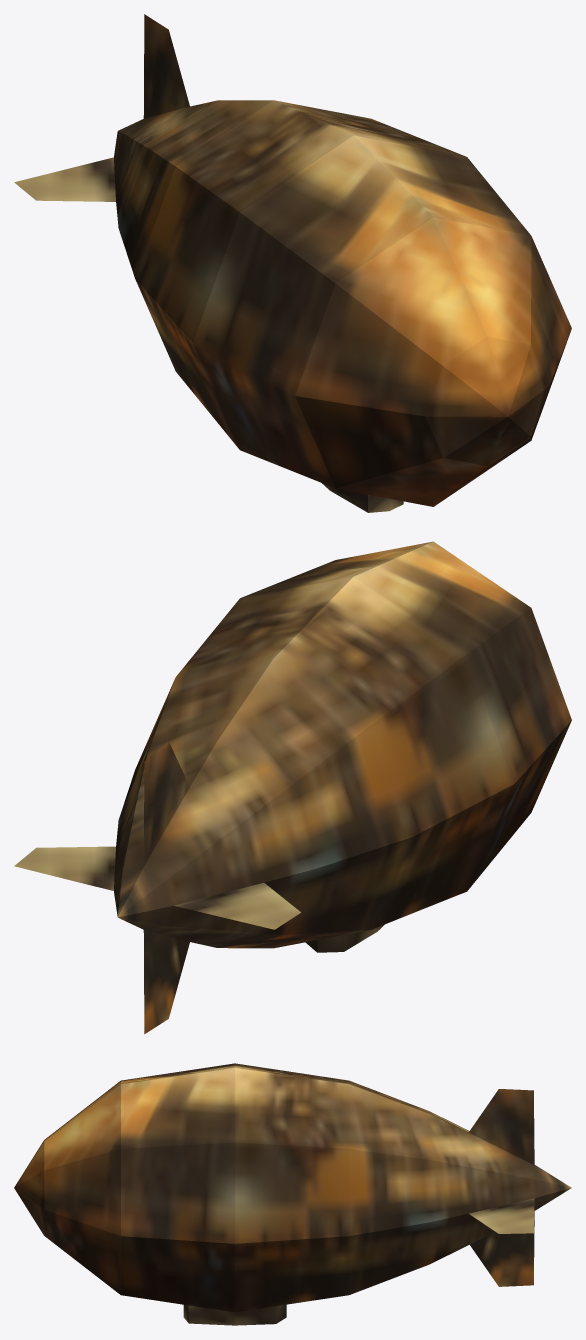
Rendered from blimp.fbx.
3 renders of one model, top to bottom at view 1: azimuth 30°, elevation 25°; view 2: azimuth 150°, elevation 25°; view 3: azimuth 270°, elevation 25°, orthographic. The views are drawn at different scales.
Parts seen in each view (by area): view 1: Cylinder; view 2: Cylinder; view 3: Cylinder.
Boxes of the visible parts, x1=… form: Cylinder: x1=14, y1=14, x2=571, y2=512; Cylinder: x1=14, y1=541, x2=571, y2=1034; Cylinder: x1=14, y1=1063, x2=571, y2=1325.
Size of the model in its own units: 232 by 241 by 489.
